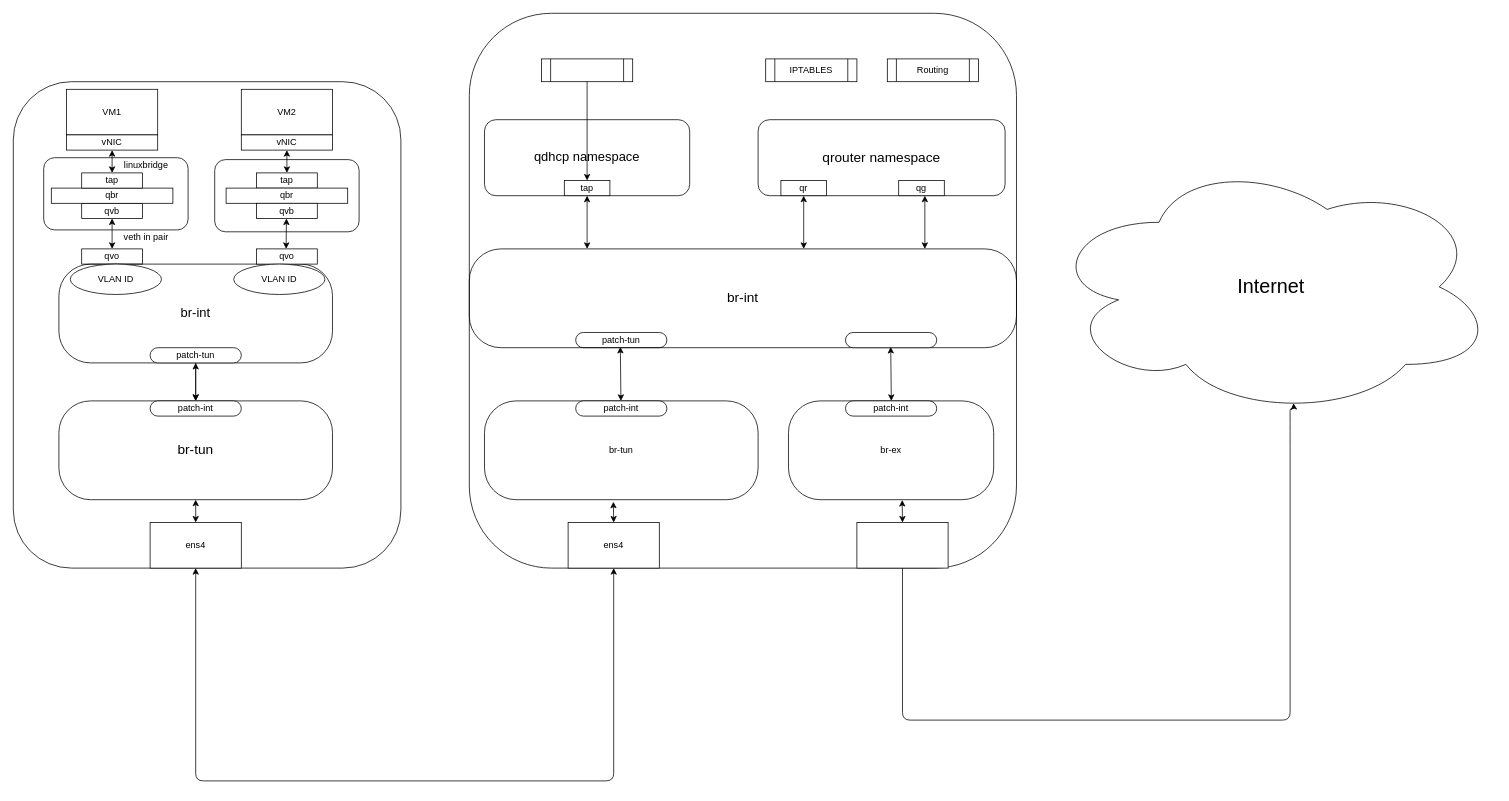
Image size: 1509x801. Some labels were removed from this diagram. Each missing label, with the centre of its shape:
"dnsmaq" goes at (587,70).
"ens3" goes at (902,545).
"int-br-ex" goes at (891,340).
